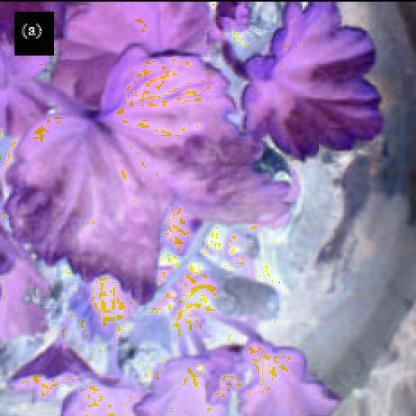Tomato leaf yellow virus: (10, 47, 304, 302), (231, 9, 388, 158)
